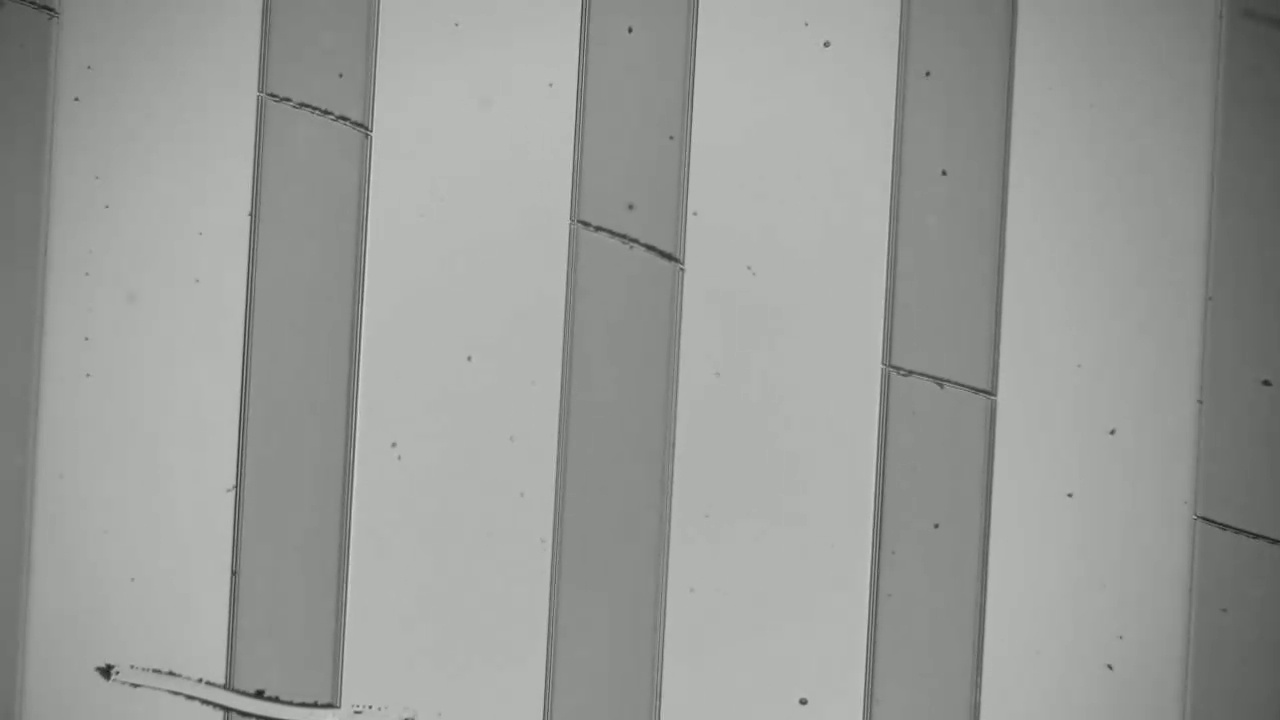Short_circuit: (207, 658, 378, 720), (585, 208, 670, 261), (898, 353, 989, 402), (271, 90, 364, 128), (1202, 509, 1278, 552)
